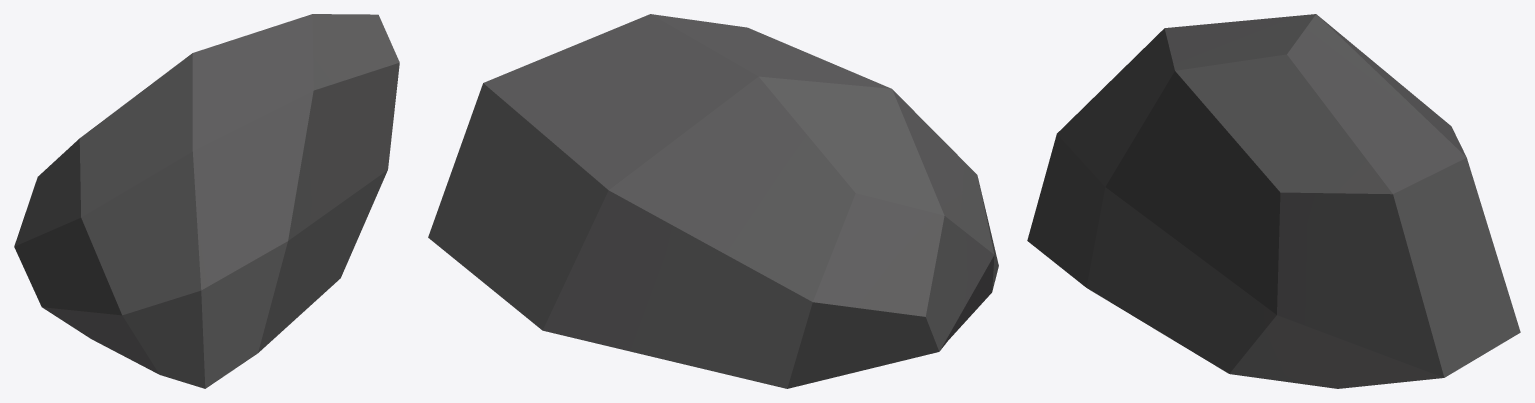
The model's file is StoneD.fbx.
3 renders of one model, left to right at view 1: azimuth 30°, elevation 25°; view 2: azimuth 150°, elevation 25°; view 3: azimuth 270°, elevation 25°, orthographic. The views are drawn at different scales.
Visible parts, largest first — view 1: Cube.045_cell.011; view 2: Cube.045_cell.011; view 3: Cube.045_cell.011.
Boxes of the visible parts, <box> form: Cube.045_cell.011: <box>14,14,399,388</box>; Cube.045_cell.011: <box>428,14,998,388</box>; Cube.045_cell.011: <box>1027,14,1520,388</box>.
Bounding box in the file's own units: 0.8512 × 0.495 × 0.7001.
Materials: 1 (1 with a texture image).
